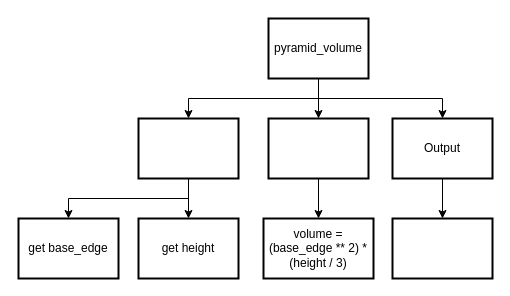
This 510x296 diagram has some shape labels left out. The box of each missing label's shape, as (x1, y1, x2, y2) in pixels:
Input: (137, 117, 239, 179)
Process: (267, 117, 369, 179)
show volume: (391, 217, 493, 279)
